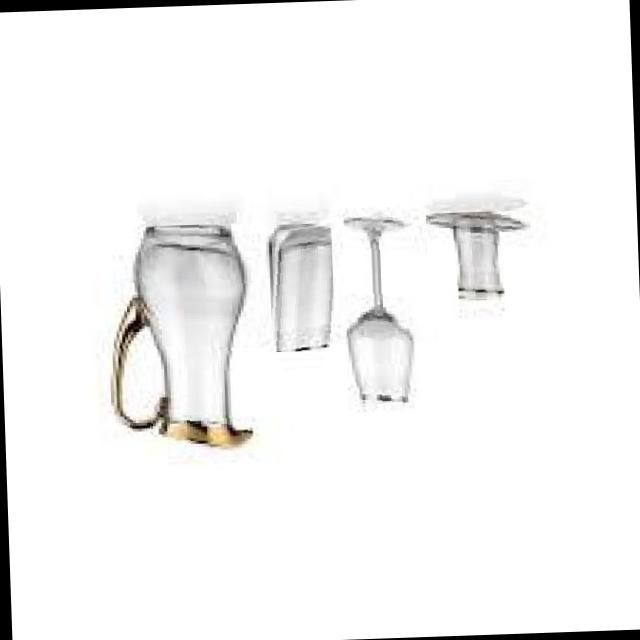Glass: (101, 222, 258, 456), (340, 213, 418, 410), (424, 208, 532, 304), (264, 220, 334, 350)
